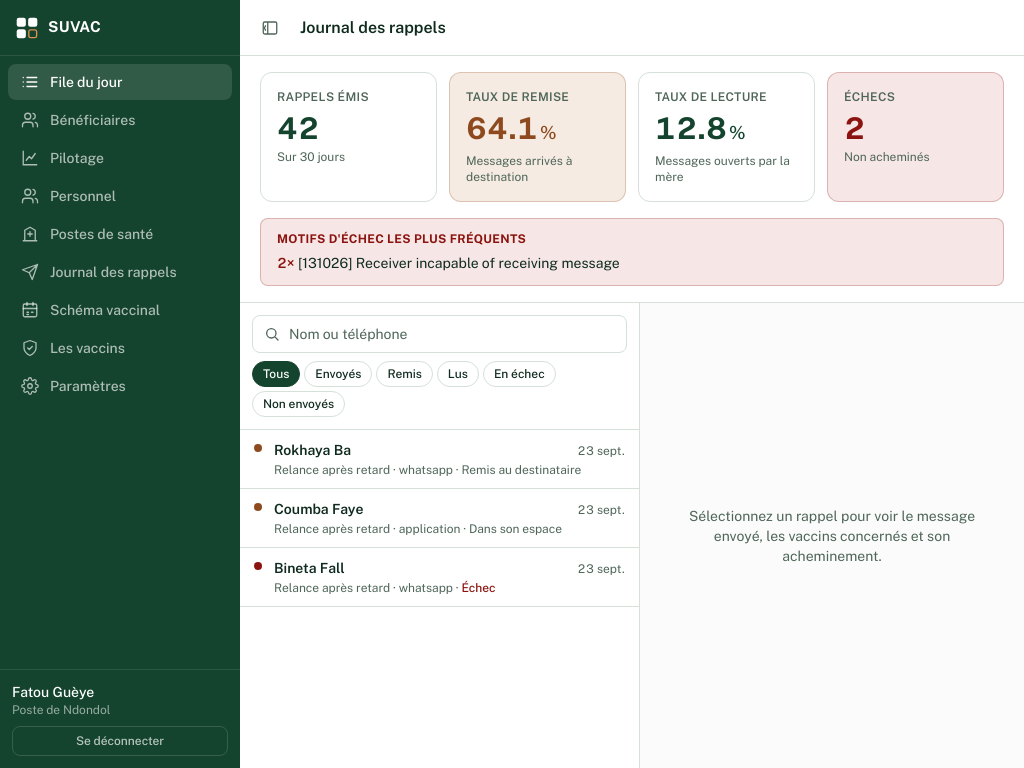
JournalRappels › montre le texte réellement envoyé
The width and height of the screenshot is (1024, 768).
Click the text "Rokhaya Ba" at [312, 450], box [274,440,351,460]
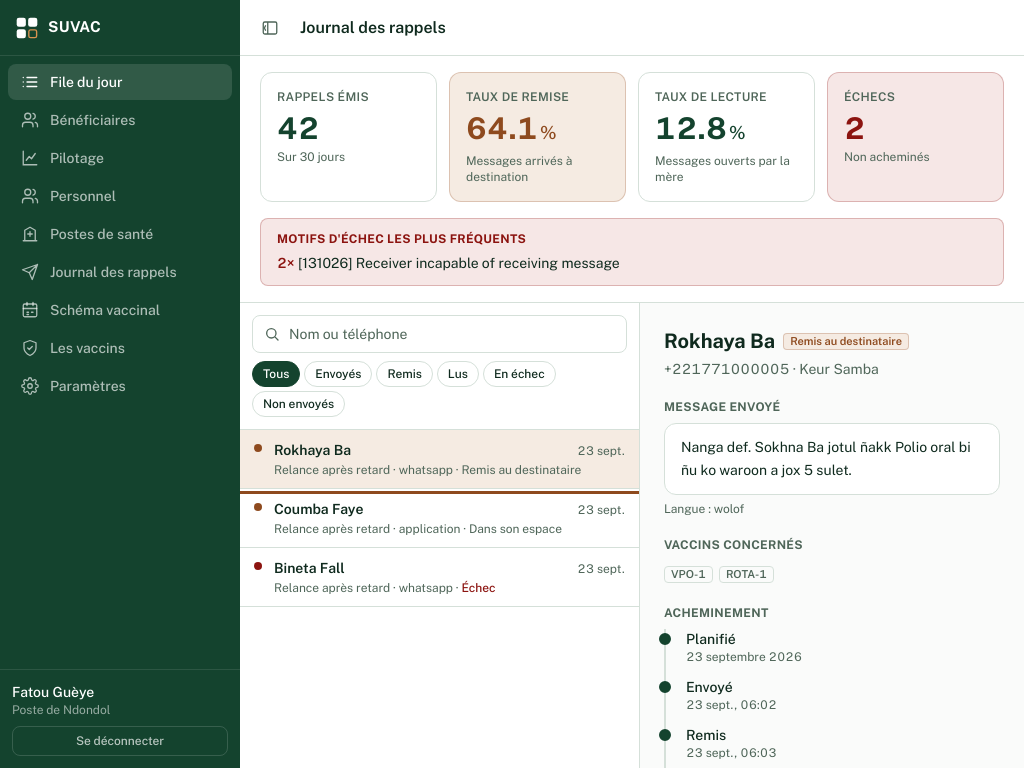
expect the text "jotul ñakk Polio oral" is shown: met, box [681,439,971,478]
expect the text "Langue : wolof" is shown: met, box [664,502,744,516]
